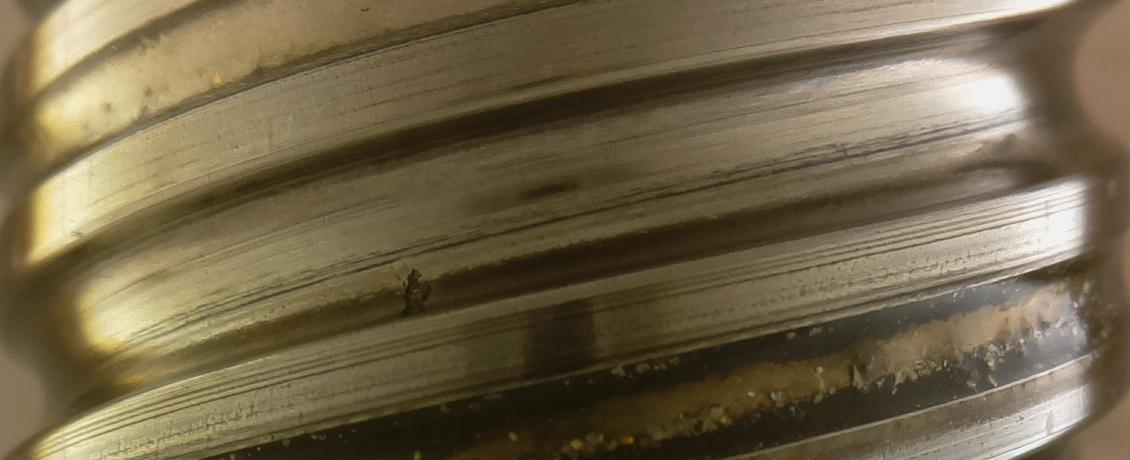pitting: (400, 268, 430, 316)
